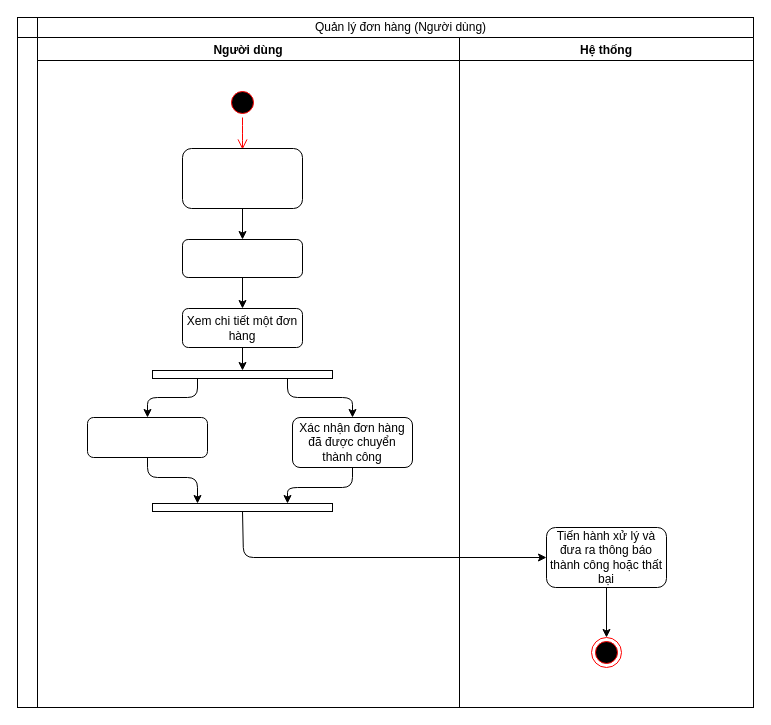
Some shapes in this 771 by 725 pixel diagram are drawn without their labels. Here are the shapes that lost their labels. From the top down, the centre of each, then its label:
(x=242, y=178): Vào giao diện Quản lý đơn hàng
(x=242, y=258): Xem danh sách đơn hàng
(x=147, y=437): Hủy đơn hàng
